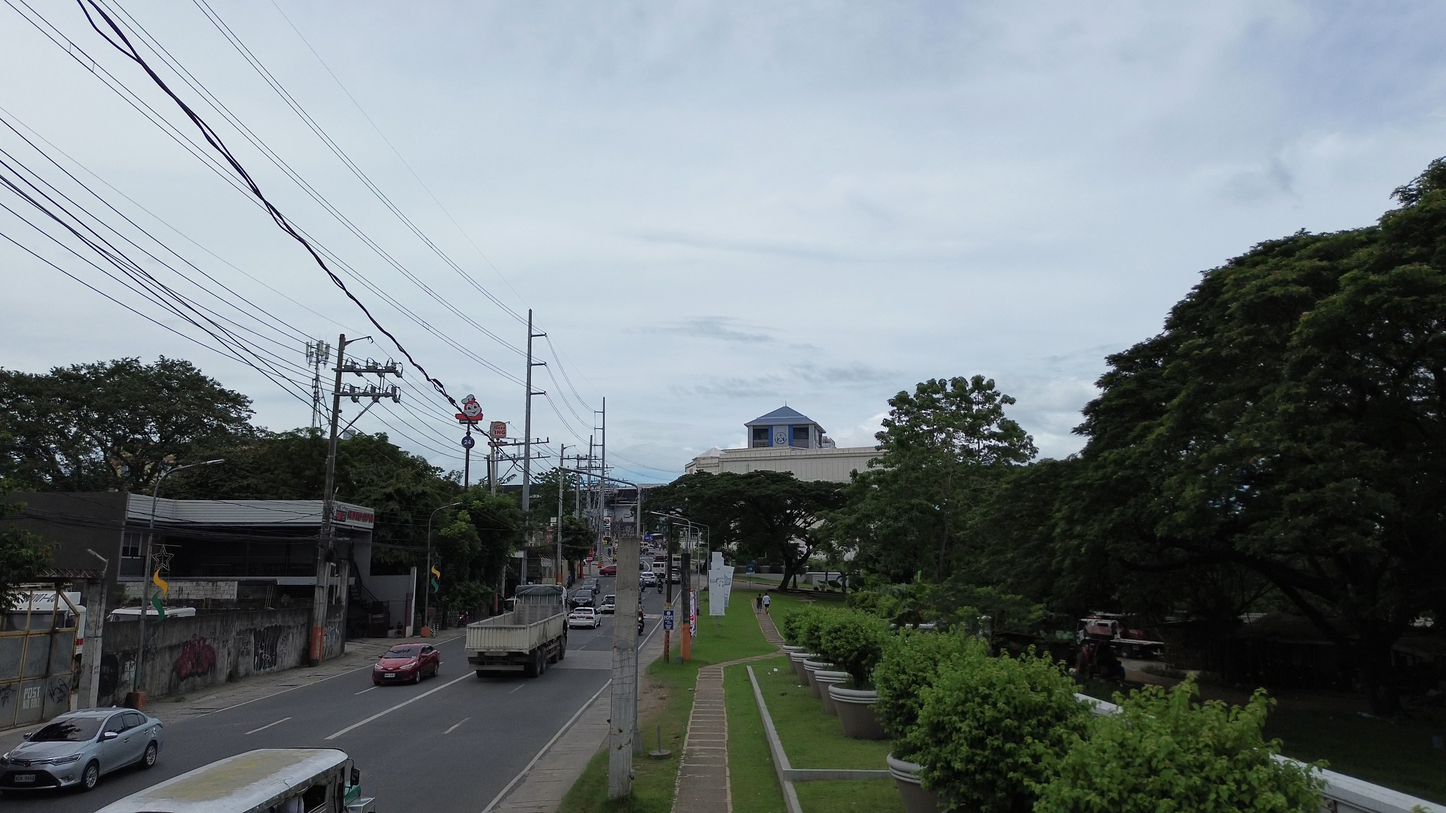car: (0, 709, 162, 790), (372, 644, 439, 685), (599, 595, 615, 614), (639, 571, 658, 586), (598, 564, 617, 576)
truck: (465, 585, 567, 677)
vehicle: (101, 748, 375, 813), (0, 590, 86, 669), (1076, 612, 1164, 660), (567, 607, 600, 629), (569, 588, 596, 608)
